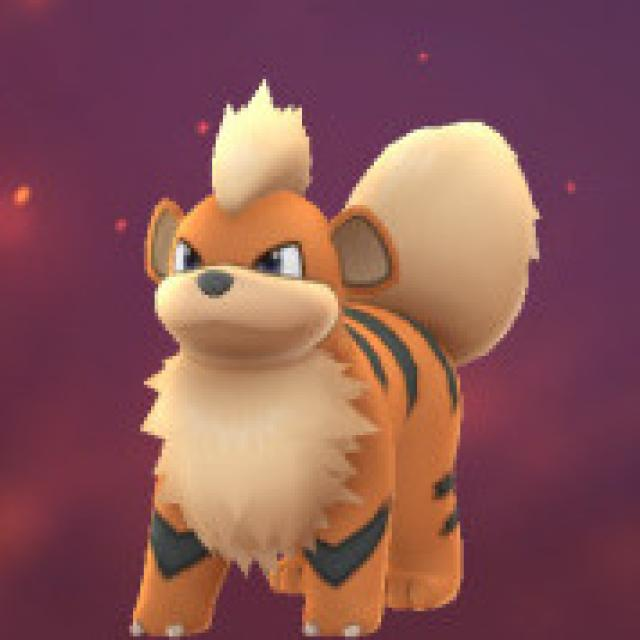Growlithe: (114, 149, 476, 640)
